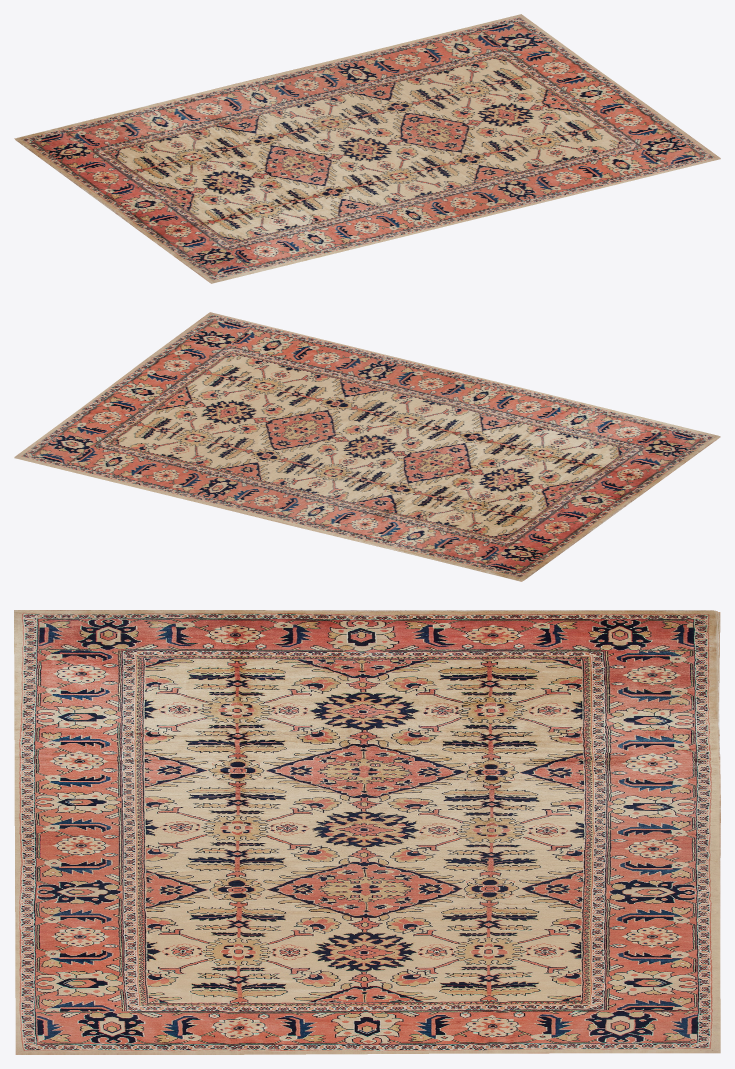
File: Rug.glb
3 renders of one model, top to bottom at view 1: azimuth 30°, elevation 25°; view 2: azimuth 150°, elevation 25°; view 3: azimuth 270°, elevation 25°, orthographic. The views are drawn at different scales.
Visible parts, largest first — view 1: Rug; view 2: Rug; view 3: Rug.
Part boxes in pixels (x1,y1,x2,y2): Rug: (14, 14, 720, 283); Rug: (14, 312, 720, 581); Rug: (14, 610, 720, 1054).
Size of the model in its own units: 3.9 by 0.005 by 2.63.
Materials: 1 (1 with a texture image).
